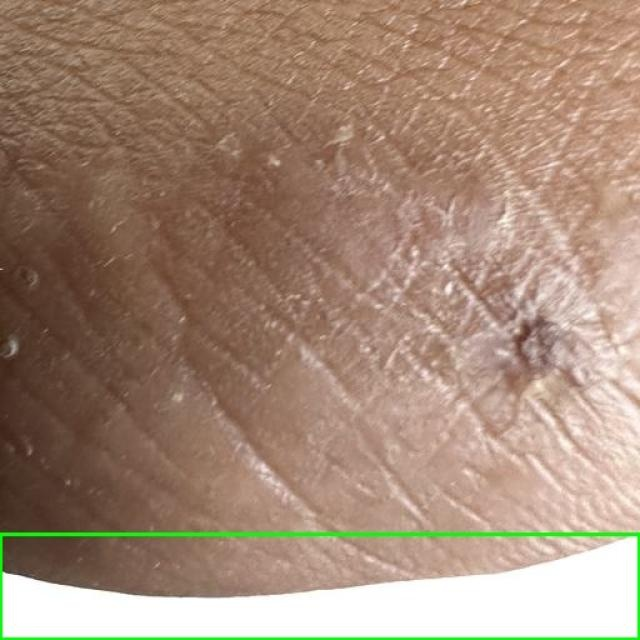Scabies: (0, 534, 639, 639)
